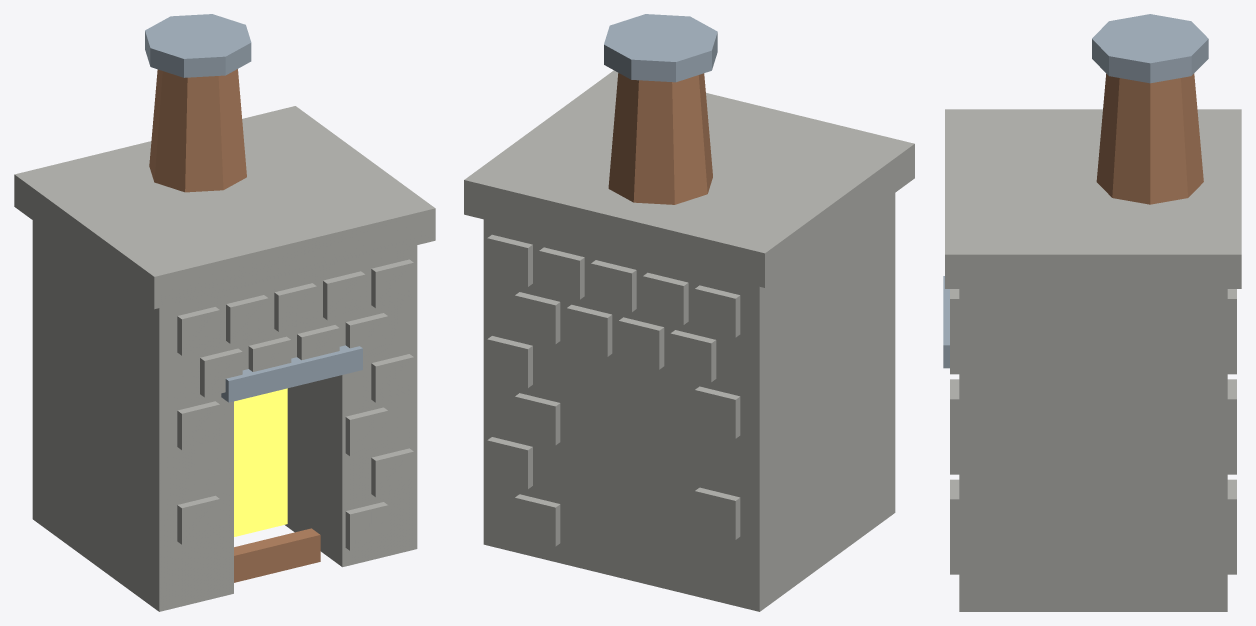
Rendered from wipe-day-survival-island-stone-furnace-8ae5cbfa__27456.glb.
The picture shows the model from 3 angles, left to right: view 1: azimuth 30°, elevation 25°; view 2: azimuth 150°, elevation 25°; view 3: azimuth 270°, elevation 25°; orthographic projection. The views are drawn at different scales.
Parts seen in each view (by area): view 1: stone-furnace; view 2: stone-furnace; view 3: stone-furnace.
Boxes of the visible parts, x1,y1,x2,y2 form: stone-furnace: [14, 14, 435, 611]; stone-furnace: [464, 14, 914, 611]; stone-furnace: [943, 14, 1241, 611].
Bounding box in the file's own units: 1.09 × 1.8 × 0.946.
